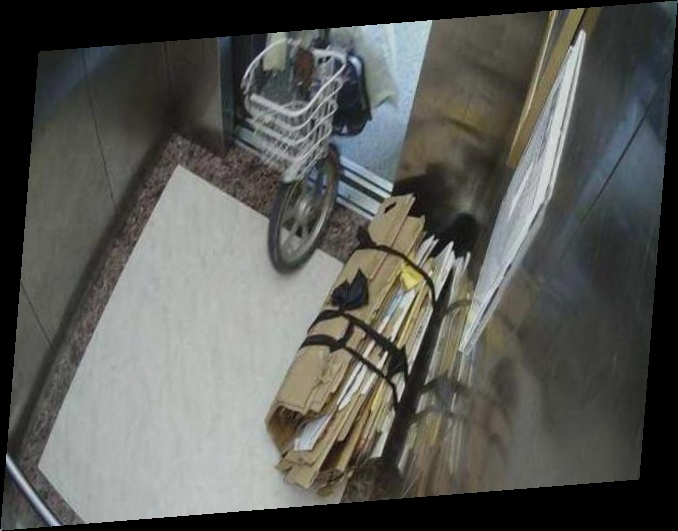box: (263, 211, 467, 497)
electromobile: (207, 36, 401, 265)
